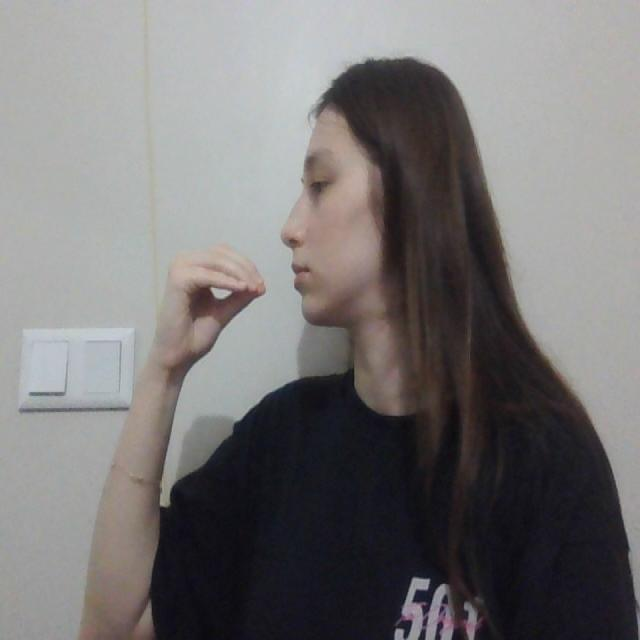Yemek: (169, 224, 334, 310)
